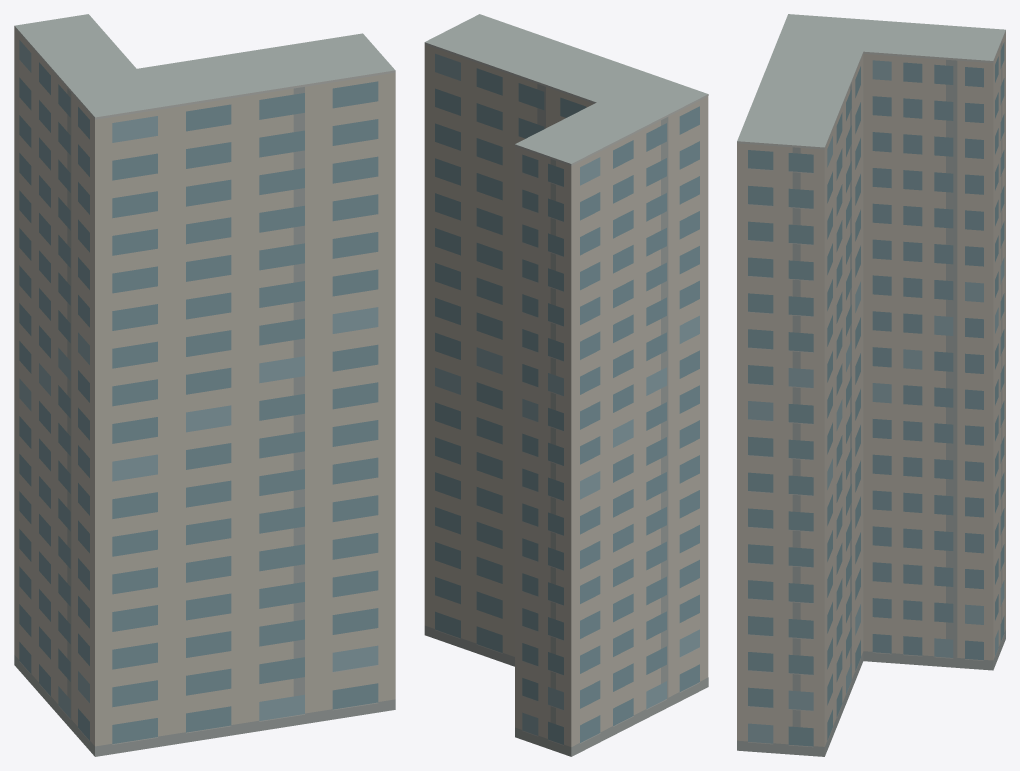
The model's file is residential-95e1f909-f6a2-4fb4-a132-9ad23f415fc1.glb.
3 views of the same model, side by side, from view 1: azimuth 30°, elevation 25°; view 2: azimuth 150°, elevation 25°; view 3: azimuth 270°, elevation 25° (orthographic). The views are drawn at different scales.
Visible parts, largest first — view 1: residential-95e1f909-f6a2-4fb4-a132-9ad23f415fc1.tmp; view 2: residential-95e1f909-f6a2-4fb4-a132-9ad23f415fc1.tmp; view 3: residential-95e1f909-f6a2-4fb4-a132-9ad23f415fc1.tmp.
Part boxes in pixels (x1,y1,x2,y2): residential-95e1f909-f6a2-4fb4-a132-9ad23f415fc1.tmp: [14, 14, 395, 756]; residential-95e1f909-f6a2-4fb4-a132-9ad23f415fc1.tmp: [424, 14, 708, 756]; residential-95e1f909-f6a2-4fb4-a132-9ad23f415fc1.tmp: [737, 14, 1005, 756].
Bounding box in the file's own units: 32.89 × 70 × 28.
